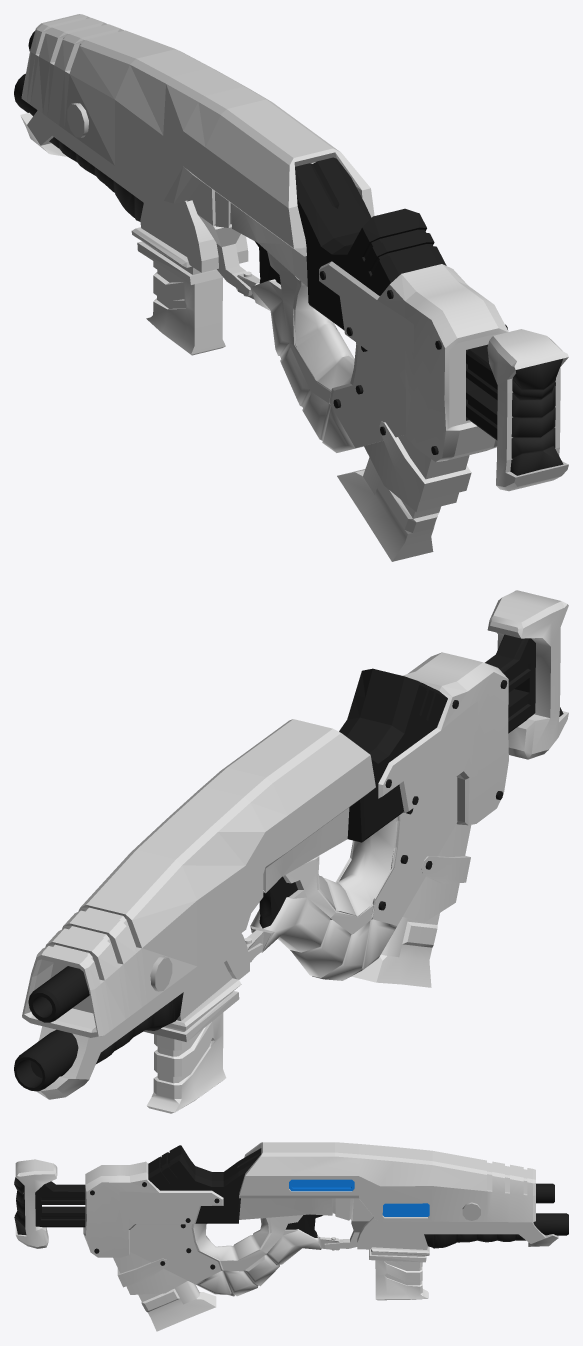
The model's file is Arma-Ortal.FBX.
3 views of the same model, one above another, from view 1: azimuth 30°, elevation 25°; view 2: azimuth 150°, elevation 25°; view 3: azimuth 270°, elevation 25° (orthographic). The views are drawn at different scales.
Parts seen in each view (by area): view 1: back, front, ds60, base2, Box06, Box05; view 2: front, back, ds60, base2, Box06, Box05, Object02; view 3: front, back, ds60, base2, Box05, Box06, Object03, Object05, Object02, Cylinder09.
Boxes of the visible parts, x1,y1,x2,y2 form: back: (295,157,568,491); front: (21,14,374,256); ds60: (45,141,471,512); base2: (14,31,248,284); Box06: (146,261,225,355); Box05: (337,457,440,561); front: (22,719,375,1037); back: (339,590,568,842); ds60: (246,776,471,980); base2: (14,933,249,1099); Box06: (146,1013,226,1113); Box05: (351,913,439,987); Object02: (259,876,297,928); front: (239,1142,535,1222); back: (14,1145,261,1257); ds60: (113,1198,373,1296); base2: (357,1183,568,1262); Box05: (138,1281,216,1331); Box06: (375,1260,428,1300); Object03: (289,1179,354,1191); Object05: (382,1203,429,1216); Object02: (285,1214,322,1237); Cylinder09: (462,1202,480,1220).
Size of the model in its own units: 53.87 by 193 by 544.
